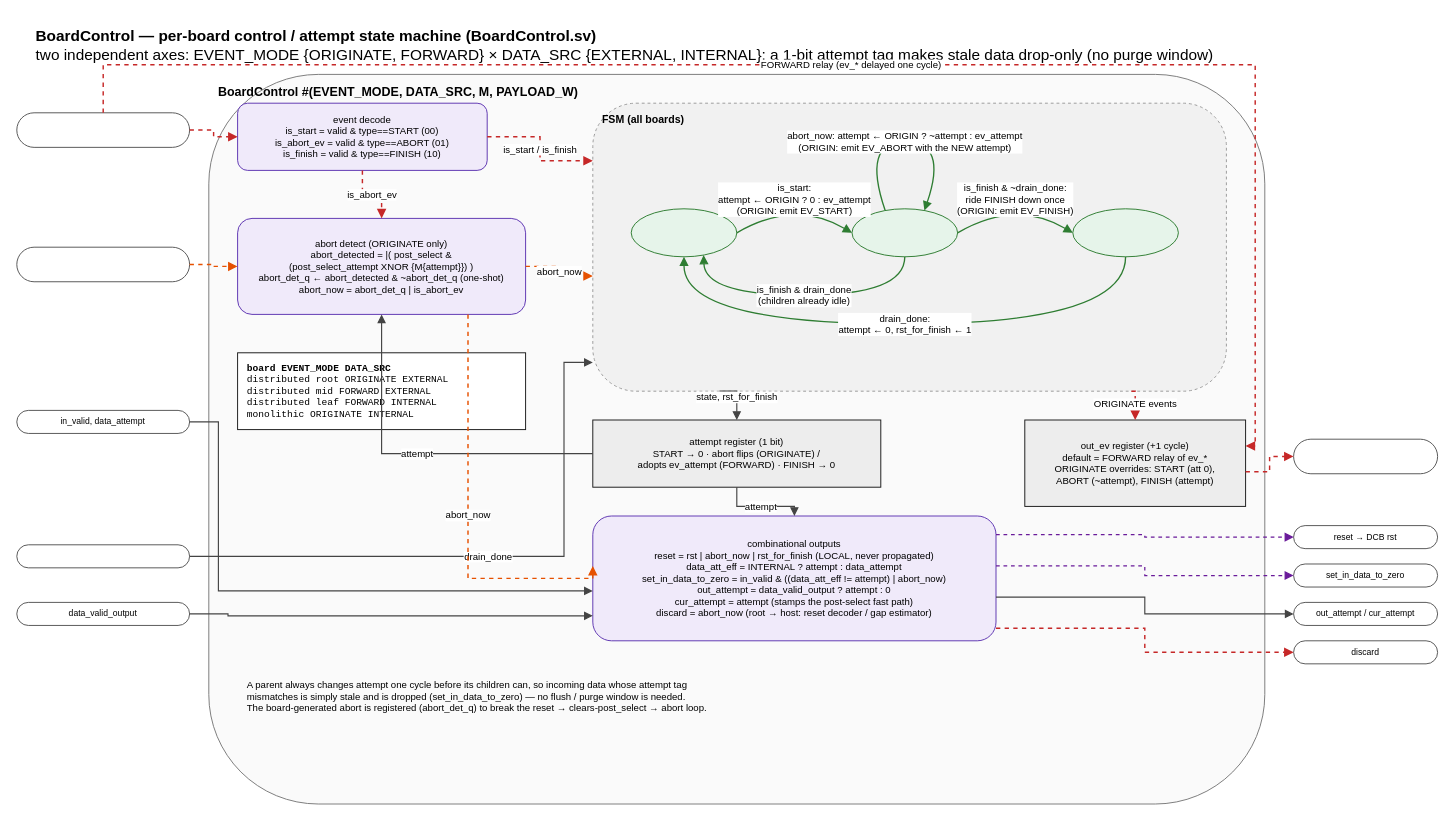
Image size: 1454x821. Some labels were removed from this diagram. The centre of each missing label's shape, as x and y in pixels:
DRAIN: point (1125, 232)
drain_done (DCB det finish): point (103, 556)
ev_valid / ev_type / ev_payload / ev_attempt (parent | host start/finish): point (103, 129)
EXEC: point (904, 232)
IDLE: point (683, 232)
out_ev_valid / type / payload / attempt: point (1365, 456)
post_select [M] / post_select_attempt [M]: point (103, 264)
